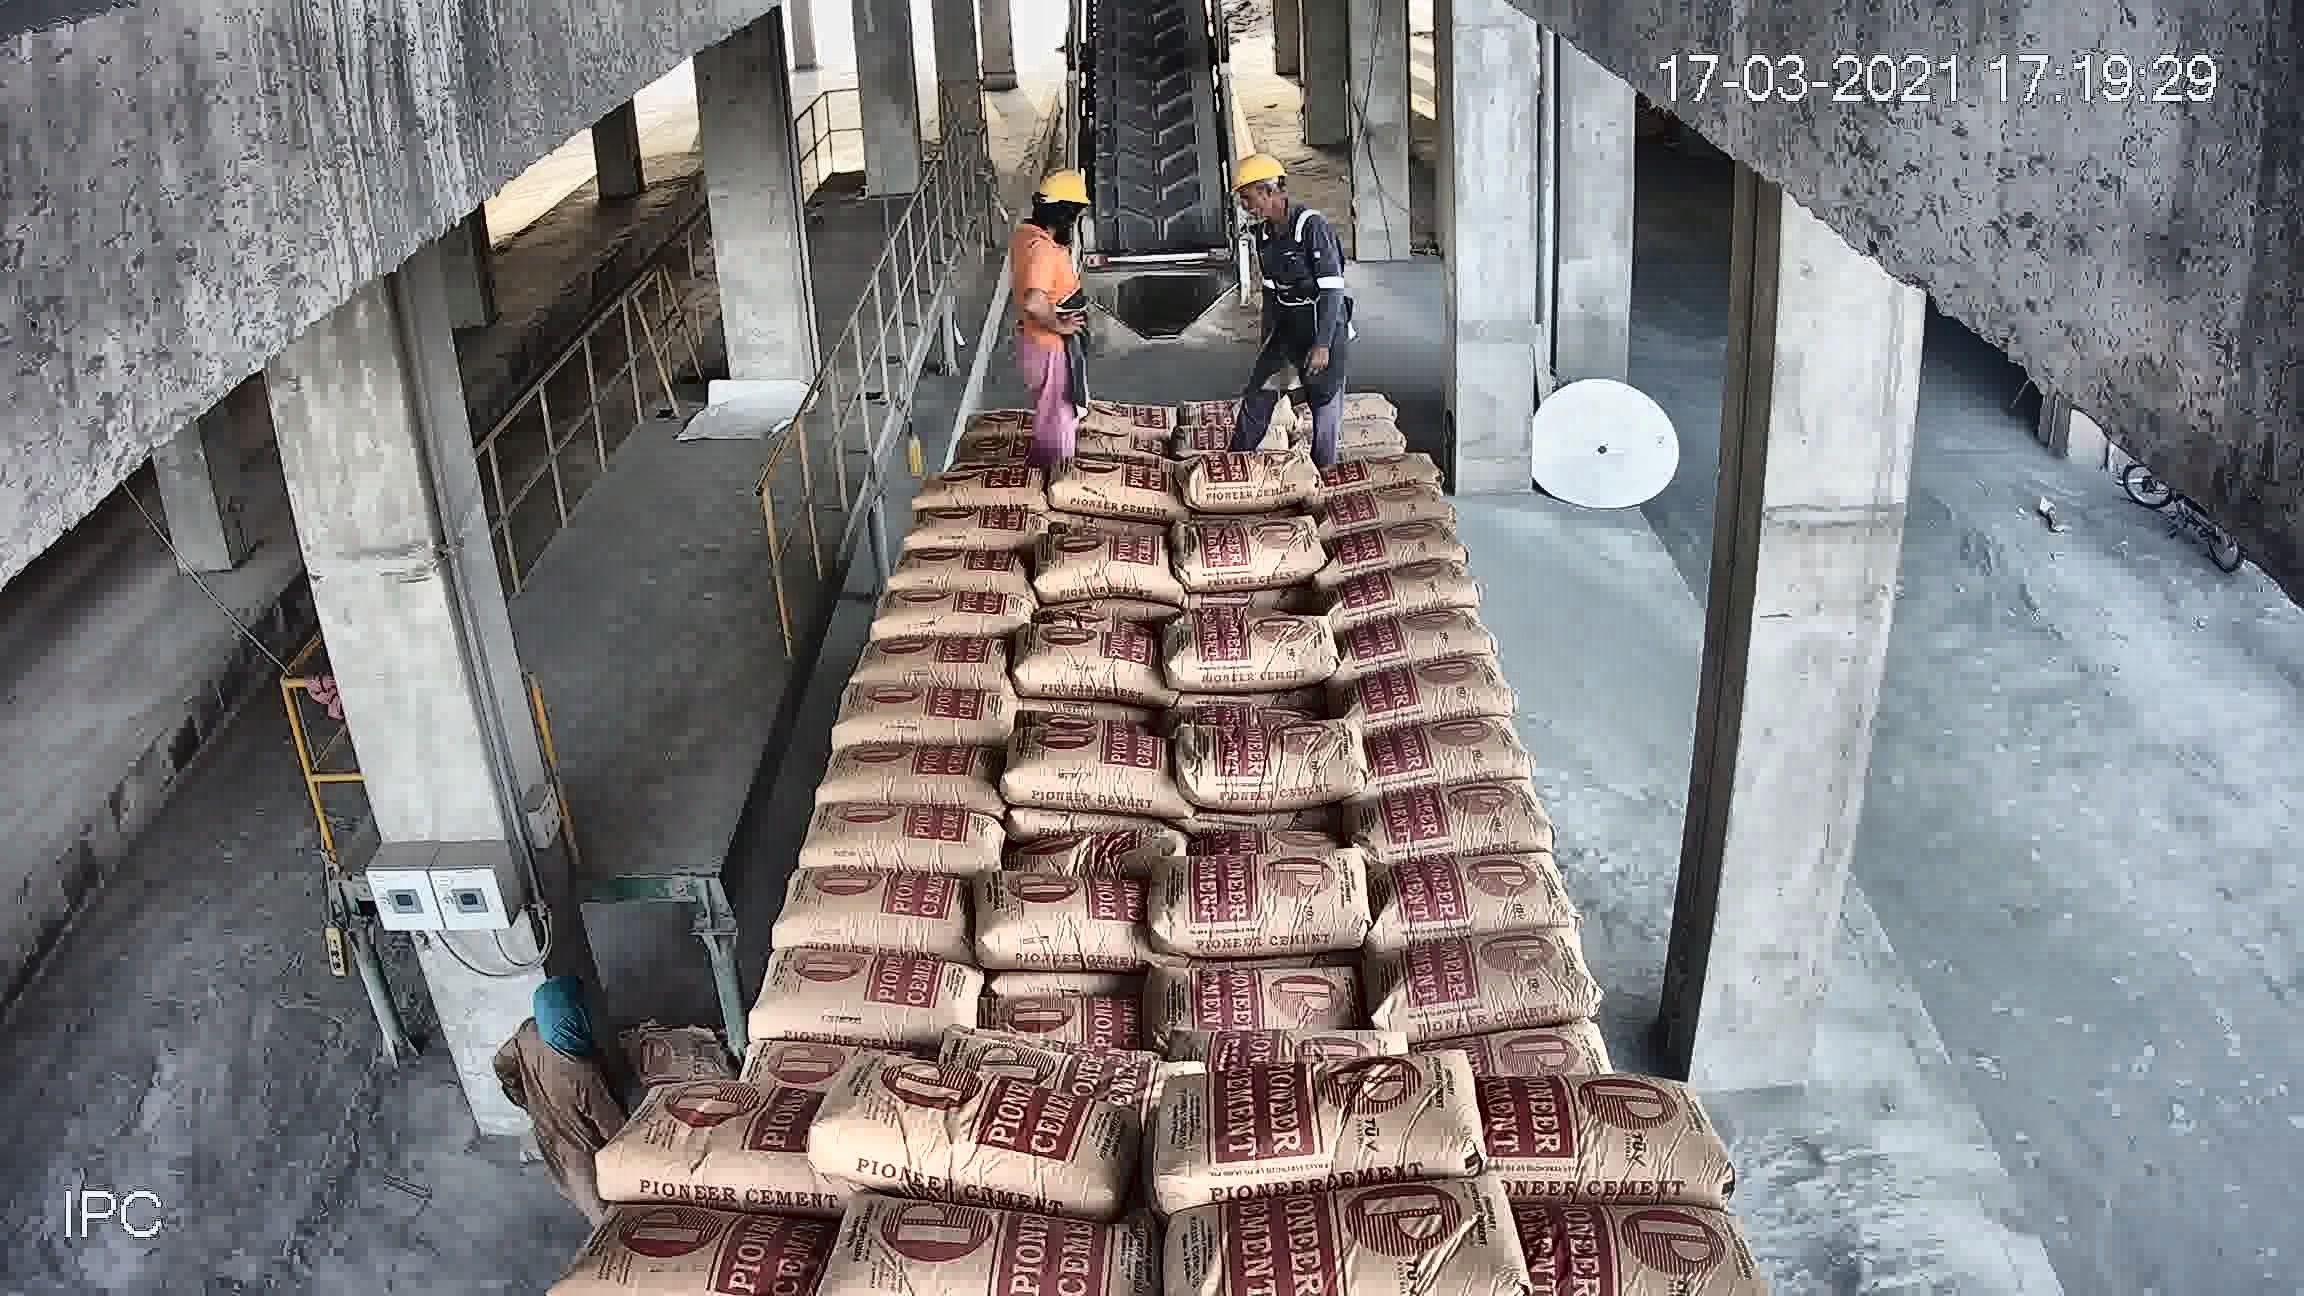bag_h: (1119, 1041, 1495, 1204), (801, 1052, 1149, 1190), (1158, 1176, 1524, 1282), (725, 942, 983, 1057), (1486, 1071, 1711, 1199), (802, 1209, 1161, 1287), (592, 1076, 804, 1196), (967, 858, 1161, 983), (1510, 1199, 1761, 1294), (1369, 934, 1605, 1029), (1165, 842, 1367, 949), (543, 1207, 812, 1283), (786, 728, 1010, 817), (755, 869, 970, 957), (790, 791, 1006, 878), (1343, 775, 1568, 858), (1165, 606, 1350, 695), (1003, 805, 1195, 891), (1367, 847, 1582, 923), (1348, 706, 1541, 790), (999, 731, 1177, 820), (824, 673, 1036, 747), (1154, 956, 1374, 1027), (1176, 718, 1358, 802), (949, 1029, 1215, 1086), (1014, 510, 1176, 600), (1176, 1017, 1412, 1079), (1002, 608, 1176, 690), (1331, 597, 1503, 673), (1342, 646, 1510, 718), (1165, 513, 1343, 579), (981, 976, 1161, 1040), (886, 494, 1046, 562), (1190, 429, 1332, 502), (1456, 1017, 1639, 1073), (1339, 548, 1487, 616), (877, 543, 1029, 604), (836, 631, 1014, 684), (1041, 462, 1185, 525), (862, 589, 1041, 638), (896, 460, 1067, 506), (1328, 521, 1468, 568), (1040, 434, 1196, 472), (1321, 484, 1456, 522), (1067, 396, 1185, 432), (1347, 446, 1449, 484), (949, 396, 1041, 437), (938, 438, 1046, 464)
belt: (1063, 24, 1244, 296)
